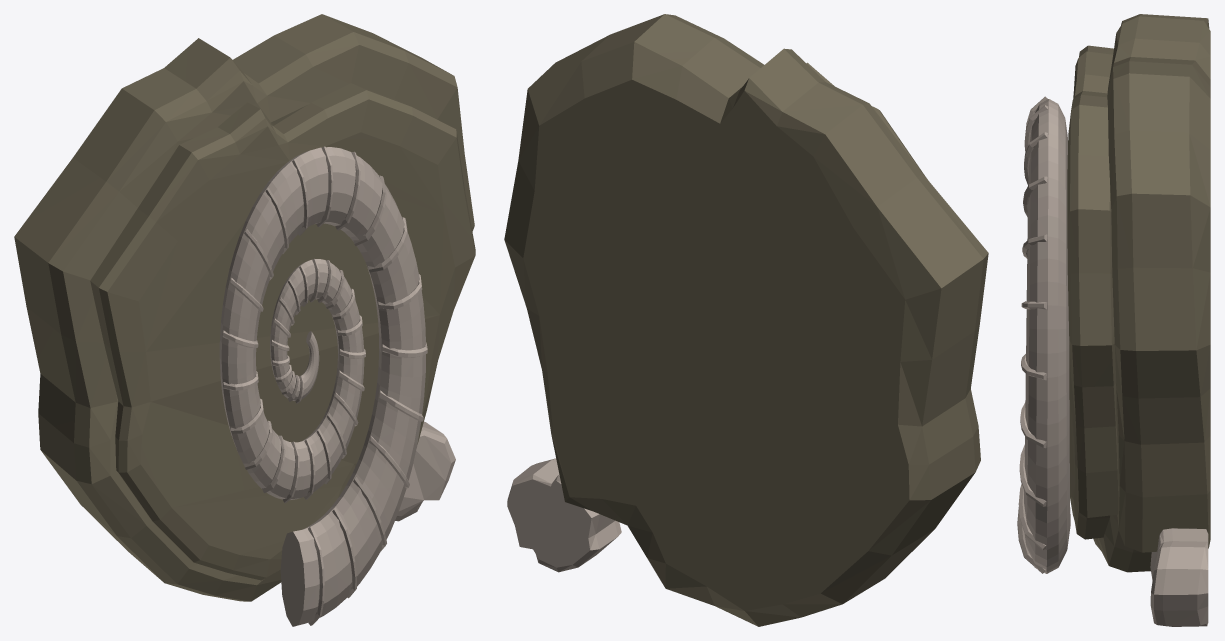
File: SPENT_FERNSTONE.hi.glb
3 renders of one model, left to right at view 1: azimuth 30°, elevation 25°; view 2: azimuth 150°, elevation 25°; view 3: azimuth 270°, elevation 25°, orthographic. The views are drawn at different scales.
Visible parts, largest first — view 1: Body_Mesh; view 2: Body_Mesh; view 3: Body_Mesh.
Part boxes in pixels (bbox=[...]): Body_Mesh: bbox=[14, 14, 475, 626]; Body_Mesh: bbox=[504, 14, 988, 626]; Body_Mesh: bbox=[1017, 14, 1210, 626].
Size of the model in its own units: 0.28 by 0.34 by 0.11.
Materials: 1 (1 with a texture image).
